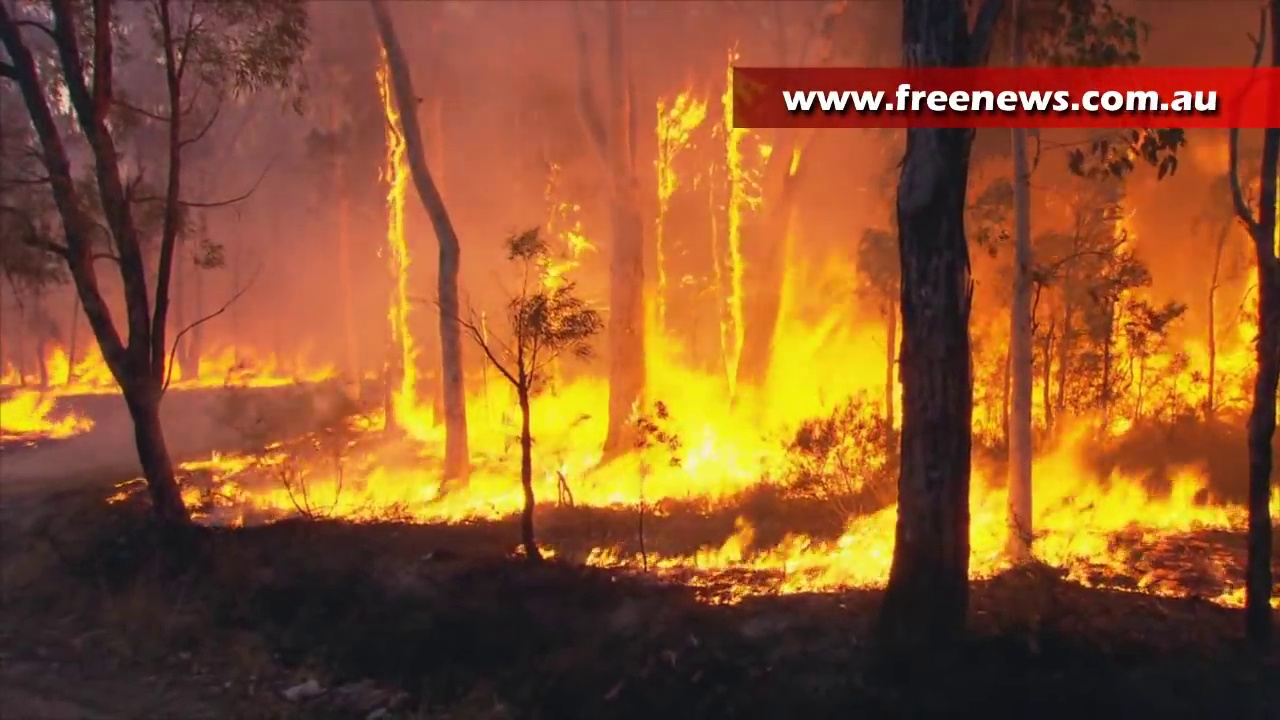fire: (206, 249, 898, 534), (968, 449, 1250, 612), (689, 507, 892, 598), (379, 83, 417, 432), (1, 336, 112, 442), (655, 90, 705, 198), (173, 349, 303, 387), (723, 126, 768, 212)
